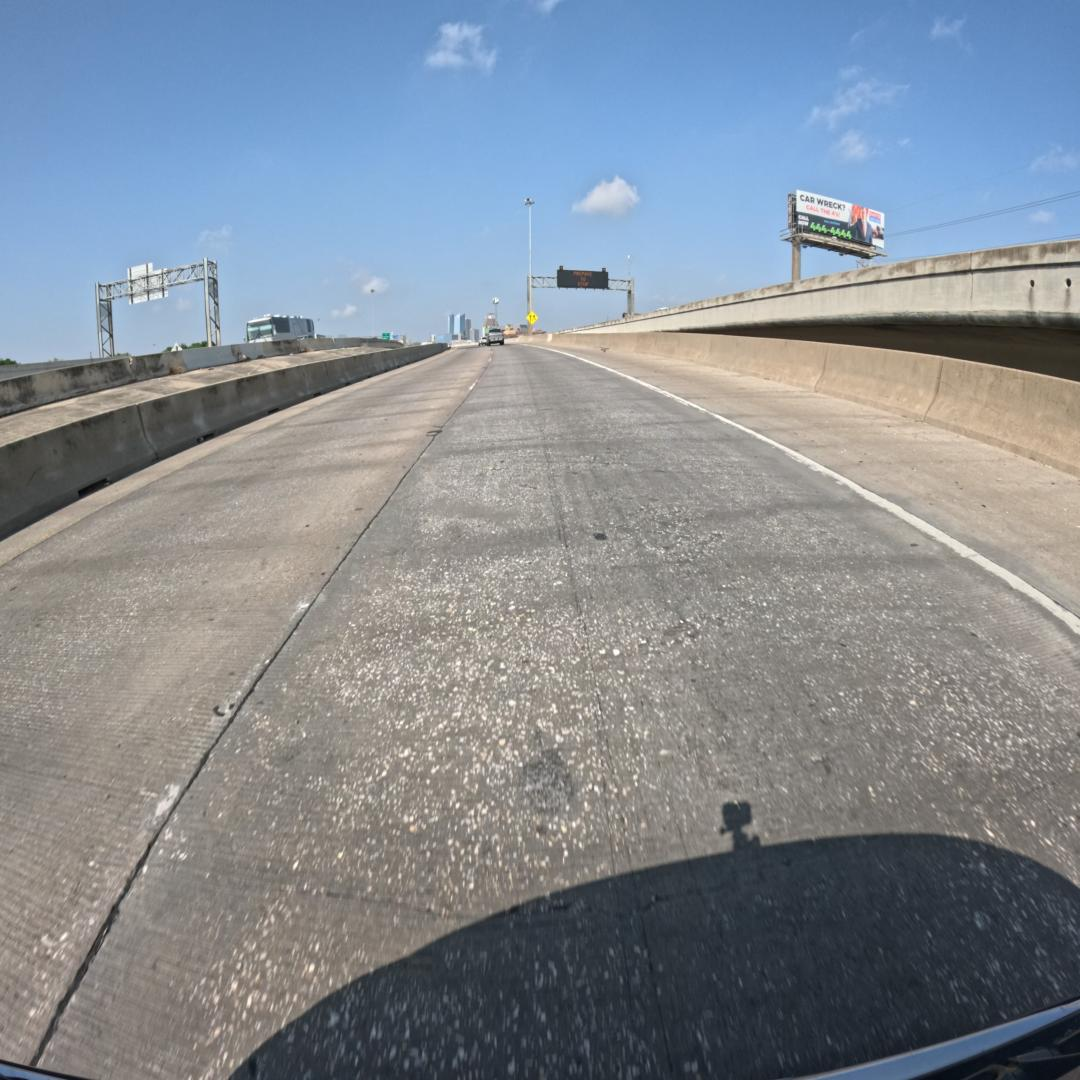lane0: (41, 346, 1080, 1080)
lane1: (0, 347, 489, 1063)
